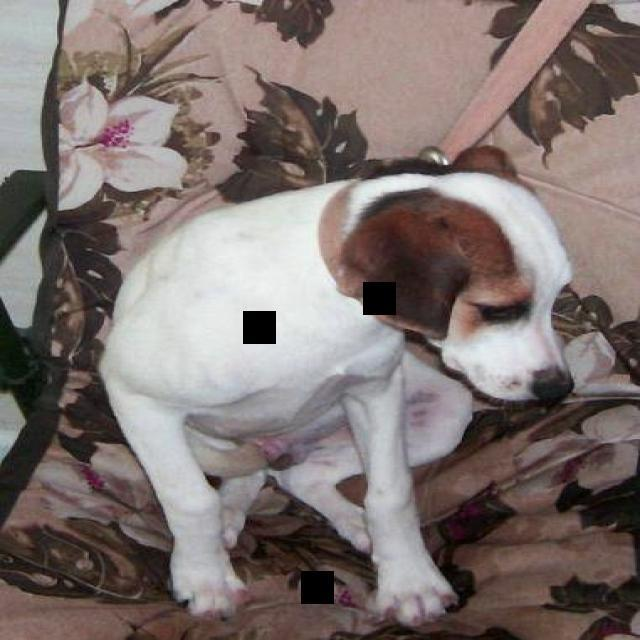puppy-dog: (83, 151, 578, 628)
